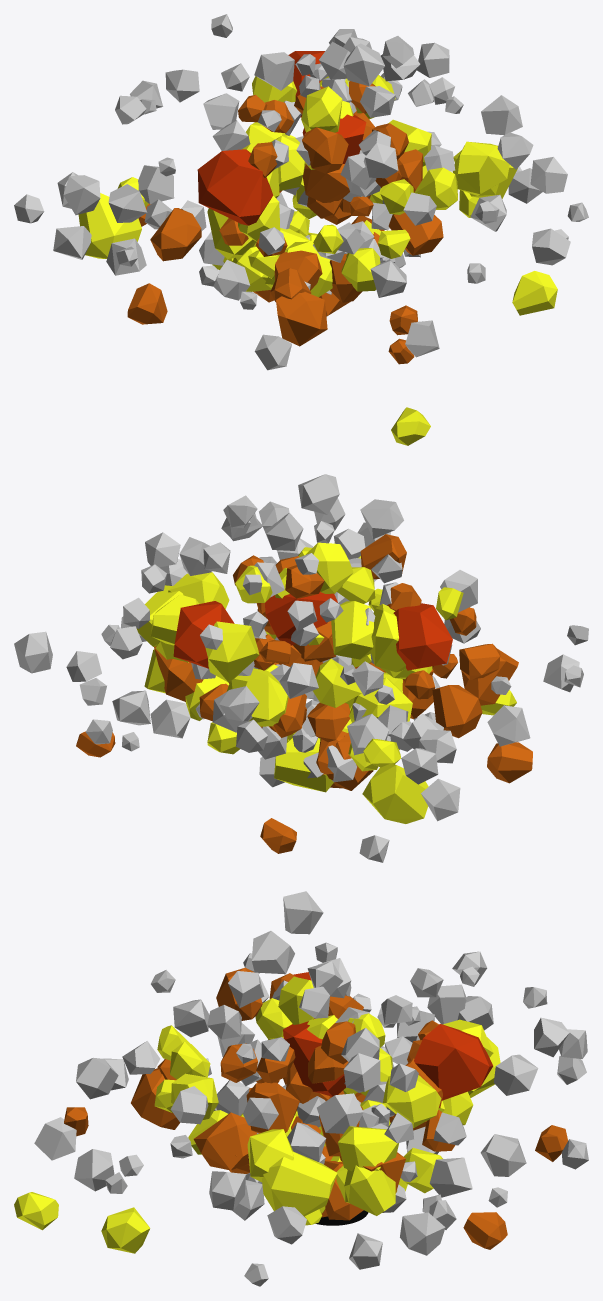
File: Explosion0040.obj
3 renders of one model, top to bottom at view 1: azimuth 30°, elevation 25°; view 2: azimuth 150°, elevation 25°; view 3: azimuth 270°, elevation 25°, orthographic. The views are drawn at different scales.
Visible parts, largest first — view 1: Cube_Material, Cube.002_Material.003, Cube.001_Material.002, Cube.003_Material.004; view 2: Cube_Material, Cube.002_Material.003, Cube.001_Material.002, Cube.003_Material.004; view 3: Cube_Material, Cube.002_Material.003, Cube.001_Material.002, Cube.003_Material.004.
Part boxes in pixels (x1=…): Cube_Material: x1=14, y1=14, x2=588, y2=370; Cube.002_Material.003: x1=78, y1=75, x2=557, y2=445; Cube.001_Material.002: x1=127, y1=81, x2=443, y2=364; Cube.003_Material.004: x1=197, y1=51, x2=366, y2=225; Cube_Material: x1=14, y1=474, x2=588, y2=862; Cube.002_Material.003: x1=136, y1=542, x2=516, y2=823; Cube.001_Material.002: x1=76, y1=534, x2=532, y2=853; Cube.003_Material.004: x1=173, y1=591, x2=452, y2=670; Cube_Material: x1=34, y1=891, x2=588, y2=1286; Cube.002_Material.003: x1=14, y1=976, x2=500, y2=1253; Cube.001_Material.002: x1=64, y1=967, x2=567, y2=1249; Cube.003_Material.004: x1=283, y1=972, x2=492, y2=1100.
Bounding box in the file's own units: 16.47 × 9.93 × 15.94.
